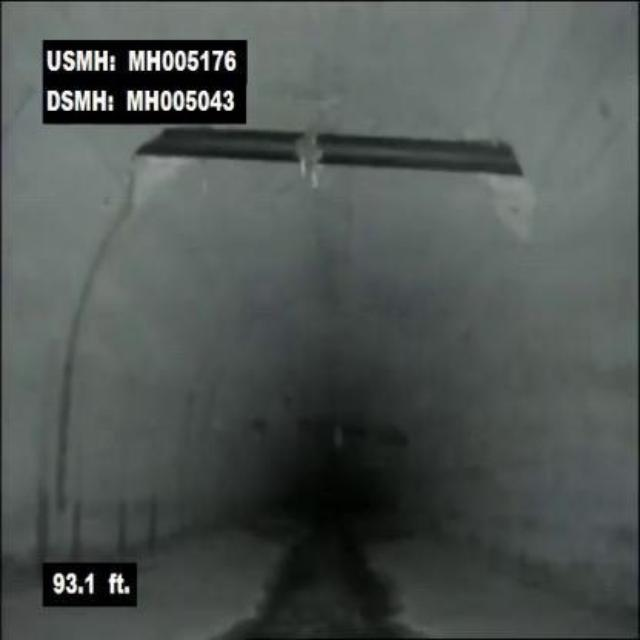Utility intrusion: (135, 122, 526, 177)
